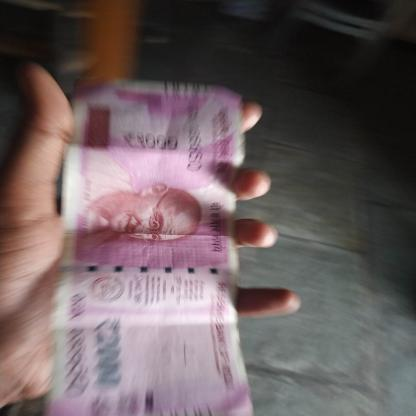New2000Front: (68, 88, 240, 415)
